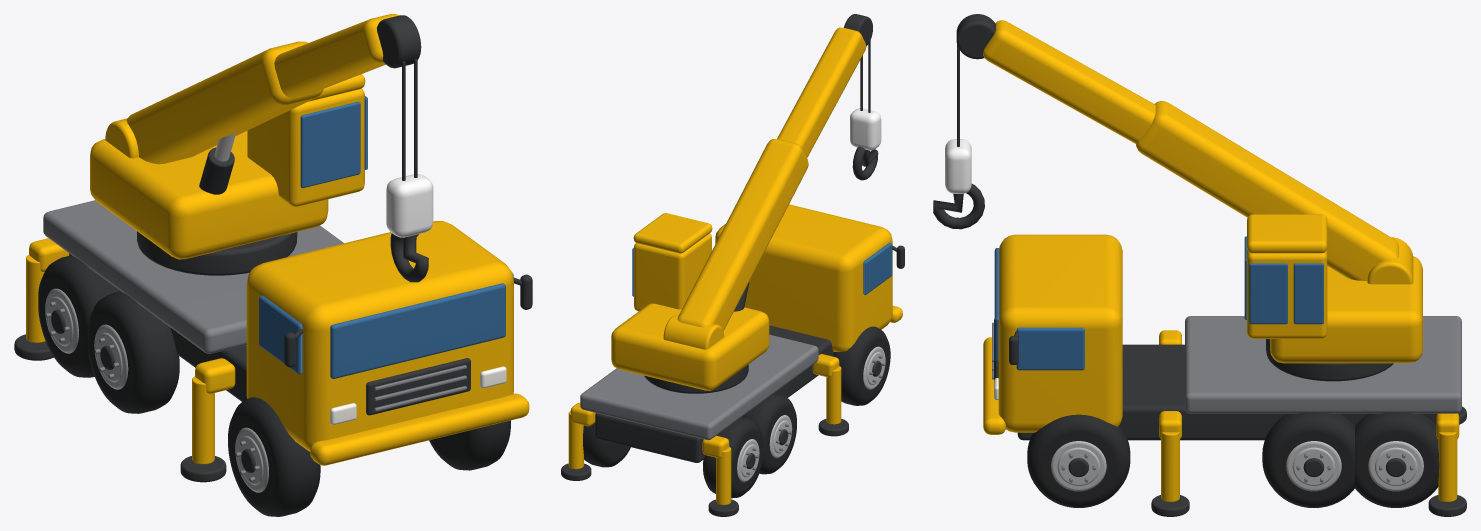
The model's file is CraneTruck.glb.
3 views of the same model, side by side, from view 1: azimuth 30°, elevation 25°; view 2: azimuth 150°, elevation 25°; view 3: azimuth 270°, elevation 25° (orthographic). The views are drawn at different scales.
Parts seen in each view (by area): view 1: CraneTruck_CraneTruck_Root_Yellow, CraneTruck_Swing_Yellow, CraneTruck_Boom_Yellow, CraneTruck_CraneTruck_Root_SteelGrey, CraneTruck_CraneTruck_Root_Glass, CraneTruck_CraneTruck_Root_DarkGrey, Crane_WheelR1_Tire, Crane_WheelR0_Tire, CraneTruck_Swing_Glass, Crane_WheelR2_Tire, Crane_HookBlock, Crane_WheelL0_Tire (+7 smaller); view 2: CraneTruck_CraneTruck_Root_Yellow, CraneTruck_Boom_Yellow, CraneTruck_Swing_Yellow, CraneTruck_CraneTruck_Root_SteelGrey, CraneTruck_CraneTruck_Root_DarkGrey, Crane_WheelR0_Tire, Crane_WheelR2_Tire, Crane_WheelR1_Tire, Crane_WheelL2_Tire, Crane_HookBlock, CraneTruck_CraneTruck_Root_Glass, CraneTruck_Hook_DarkGrey (+4 smaller); view 3: CraneTruck_CraneTruck_Root_Yellow, CraneTruck_Boom_Yellow, CraneTruck_CraneTruck_Root_SteelGrey, CraneTruck_Swing_Yellow, CraneTruck_CraneTruck_Root_DarkGrey, Crane_WheelL0_Tire, Crane_WheelL1_Tire, Crane_WheelL2_Tire, CraneTruck_Swing_Glass, CraneTruck_CraneTruck_Root_Glass, CraneTruck_Wheel_WheelL0_LightGrey, CraneTruck_Wheel_WheelL2_LightGrey (+4 smaller).
Part boxes in pixels (bbox=[...]): CraneTruck_CraneTruck_Root_Yellow: bbox=[26, 221, 529, 465]; CraneTruck_Swing_Yellow: bbox=[90, 74, 365, 259]; CraneTruck_Boom_Yellow: bbox=[105, 14, 399, 164]; CraneTruck_CraneTruck_Root_SteelGrey: bbox=[43, 200, 466, 411]; CraneTruck_CraneTruck_Root_Glass: bbox=[259, 273, 513, 378]; CraneTruck_CraneTruck_Root_DarkGrey: bbox=[14, 231, 532, 482]; Crane_WheelR1_Tire: bbox=[88, 291, 179, 413]; Crane_WheelR0_Tire: bbox=[228, 397, 320, 516]; CraneTruck_Swing_Glass: bbox=[300, 96, 367, 188]; Crane_WheelR2_Tire: bbox=[38, 255, 120, 377]; Crane_HookBlock: bbox=[386, 174, 433, 237]; Crane_WheelL0_Tire: bbox=[429, 420, 510, 470]; CraneTruck_CraneTruck_Root_Yellow: bbox=[568, 204, 902, 505]; CraneTruck_Boom_Yellow: bbox=[663, 27, 866, 349]; CraneTruck_Swing_Yellow: bbox=[611, 213, 769, 390]; CraneTruck_CraneTruck_Root_SteelGrey: bbox=[580, 334, 818, 440]; CraneTruck_CraneTruck_Root_DarkGrey: bbox=[561, 245, 904, 516]; Crane_WheelR0_Tire: bbox=[833, 326, 890, 405]; Crane_WheelR2_Tire: bbox=[703, 417, 763, 498]; Crane_WheelR1_Tire: bbox=[742, 393, 796, 474]; Crane_WheelL2_Tire: bbox=[583, 423, 630, 467]; Crane_HookBlock: bbox=[850, 108, 881, 150]; CraneTruck_CraneTruck_Root_Glass: bbox=[863, 242, 892, 294]; CraneTruck_Hook_DarkGrey: bbox=[852, 40, 878, 180]; CraneTruck_CraneTruck_Root_Yellow: bbox=[983, 234, 1459, 501]; CraneTruck_Boom_Yellow: bbox=[983, 20, 1413, 284]; CraneTruck_CraneTruck_Root_SteelGrey: bbox=[992, 316, 1461, 413]; CraneTruck_Swing_Yellow: bbox=[1247, 214, 1422, 363]; CraneTruck_CraneTruck_Root_DarkGrey: bbox=[994, 319, 1466, 516]; Crane_WheelL0_Tire: bbox=[1027, 414, 1130, 507]; Crane_WheelL1_Tire: bbox=[1262, 412, 1354, 507]; Crane_WheelL2_Tire: bbox=[1355, 412, 1439, 507]; CraneTruck_Swing_Glass: bbox=[1244, 236, 1323, 324]; CraneTruck_CraneTruck_Root_Glass: bbox=[994, 248, 1084, 370]; CraneTruck_Wheel_WheelL0_LightGrey: bbox=[1051, 441, 1106, 491]; CraneTruck_Wheel_WheelL2_LightGrey: bbox=[1368, 441, 1423, 491].
Bounding box in the file's own units: 1.32 × 2.51 × 2.79.
Materials: 8 (8 with a texture image).
